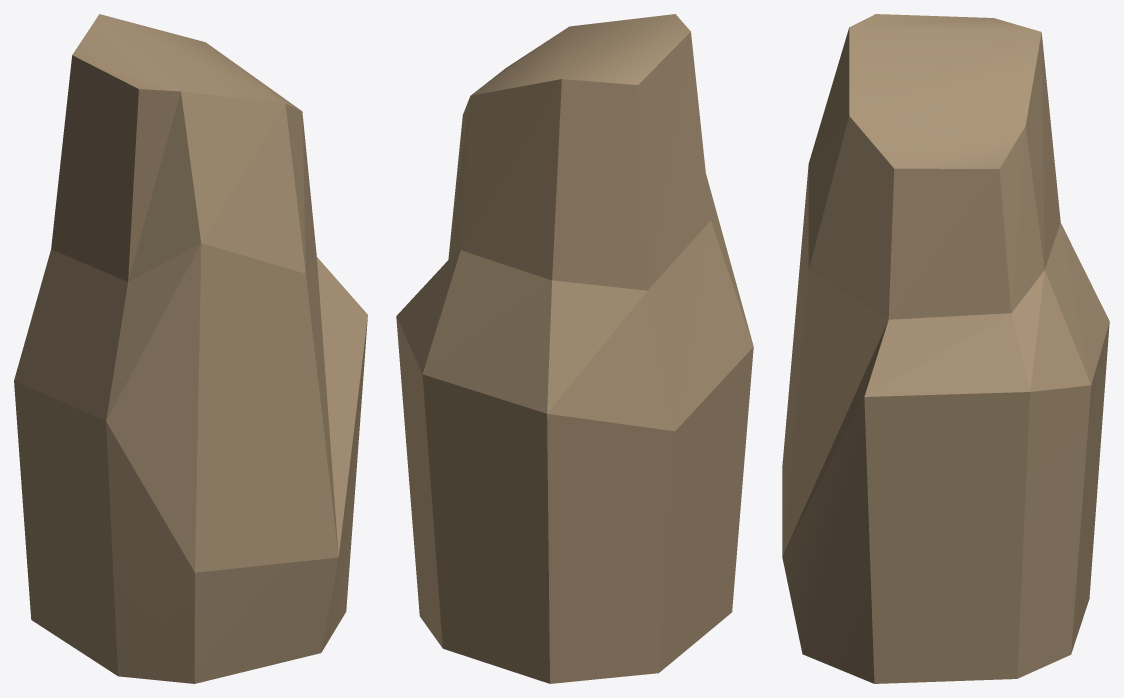
The model's file is TB_D_Env_RockA_B.FBX.
The picture shows the model from 3 angles, left to right: view 1: azimuth 30°, elevation 25°; view 2: azimuth 150°, elevation 25°; view 3: azimuth 270°, elevation 25°; orthographic projection.
Parts seen in each view (by area): view 1: TB_D_Env_RockA_B; view 2: TB_D_Env_RockA_B; view 3: TB_D_Env_RockA_B.
Part boxes in pixels (box(x1,y1,x2,y2)): TB_D_Env_RockA_B: box(14, 14, 367, 683); TB_D_Env_RockA_B: box(396, 14, 753, 683); TB_D_Env_RockA_B: box(782, 14, 1109, 683).
Bounding box in the file's own units: 1.07 × 2.12 × 1.1.
